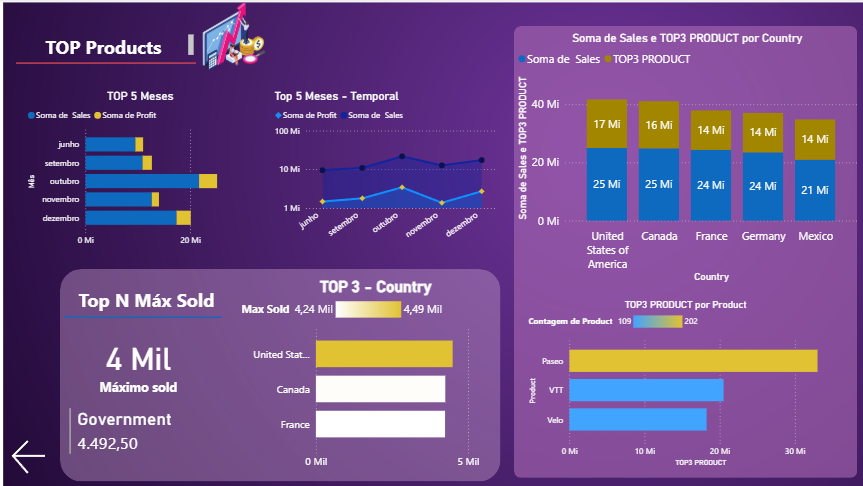

Layout of this report page (visuals, bound fields, positions):
{"tool":"powerbi","page":{"name":"TOP Products","canvas":[1280,720],"ordinal":3},"visuals":[{"type":"image","title":"fundo_purple","box":[0,0,1280.3,720],"z":0},{"type":"shape","box":[93.2,394.8,644.6,311],"z":0,"group":"g1"},{"type":"clusteredBarChart","title":"TOP 3 - Country","fields":{"Category":["financials.Country"],"Y":["financials.Máximo sold"]},"box":[353.1,407.9,403.3,288.9],"z":1000,"group":"g1"},{"type":"shape","box":[27.3,76.9,263.2,32.5],"z":2000},{"type":"card","fields":{"Values":["financials.Máximo sold"]},"box":[83.7,478.9,247.1,109.8],"z":2000,"group":"g1"},{"type":"shape","box":[757.1,39.3,502.4,661.4],"z":3000},{"type":"multiRowCard","fields":{"Values":["financials.Máximo sold","financials.Segment"]},"box":[101.2,593.4,218.7,85.4],"z":3000,"group":"g1"},{"type":"textbox","box":[114.9,417.4,264.9,53],"z":4000,"group":"g1"},{"type":"shape","box":[97.8,417.4,230.7,97.4],"z":5000,"group":"g1"},{"type":"actionButton","box":[15.4,639.1,80.3,61.5],"z":9000},{"type":"image","box":[290.5,0,111.1,109.4],"z":10000},{"type":"textbox","box":[27.3,46.1,264.9,42.7],"z":11000},{"type":"columnChart","fields":{"Category":["financials.Country"],"Y":["Sum(financials. Sales)","financials.TOP3 PRODUCT"]},"box":[757.1,46.1,507.6,372.6],"z":11001},{"type":"clusteredBarChart","fields":{"Category":["financials.Product"],"Y":["financials.TOP3 PRODUCT"]},"box":[772.4,439.2,470,249.5],"z":11002},{"type":"barChart","title":"TOP 5 Meses ","fields":{"Category":["financials.Date.Variation.Hierarquia de datas.Mês"],"Y":["Sum(financials. Sales)","Sum(financials.Profit)"]},"box":[39.3,131.6,340.1,239.3],"z":11003},{"type":"areaChart","title":"Top 5 Meses - Temporal","fields":{"Category":["financials.Date.Variation.Hierarquia de datas.Mês"],"Y":["Sum(financials.Profit)","Sum(financials. Sales)"]},"box":[401.6,131.6,336.7,239.3],"z":11004},{"type":"group","id":"g1","title":"Grupo 1","box":[83.7,394.8,672.6,311],"z":11005}]}

Visuals, with their boxes in screenshot pixels (x1, y1, x2, y2), scaled from the page's 1280x720 canvas onto the 863x486 screenshot:
"fundo_purple" image: (0,0,862,485)
shape: (63,266,497,476)
"TOP 3 - Country" clusteredBarChart: (238,275,510,470)
shape: (18,52,196,74)
card - financials.Máximo sold: (56,323,223,397)
shape: (510,27,849,473)
multiRowCard - financials.Máximo sold x financials.Segment: (68,401,216,458)
textbox: (77,282,256,318)
shape: (66,282,221,347)
actionButton: (10,431,65,473)
image: (196,0,271,74)
textbox: (18,31,197,60)
columnChart - financials.Country x Sum(financials. Sales): (510,31,853,283)
clusteredBarChart - financials.Product x financials.TOP3 PRODUCT: (521,296,838,465)
"TOP 5 Meses " barChart: (26,89,256,250)
"Top 5 Meses - Temporal" areaChart: (271,89,498,250)
"Grupo 1" group: (56,266,510,476)
